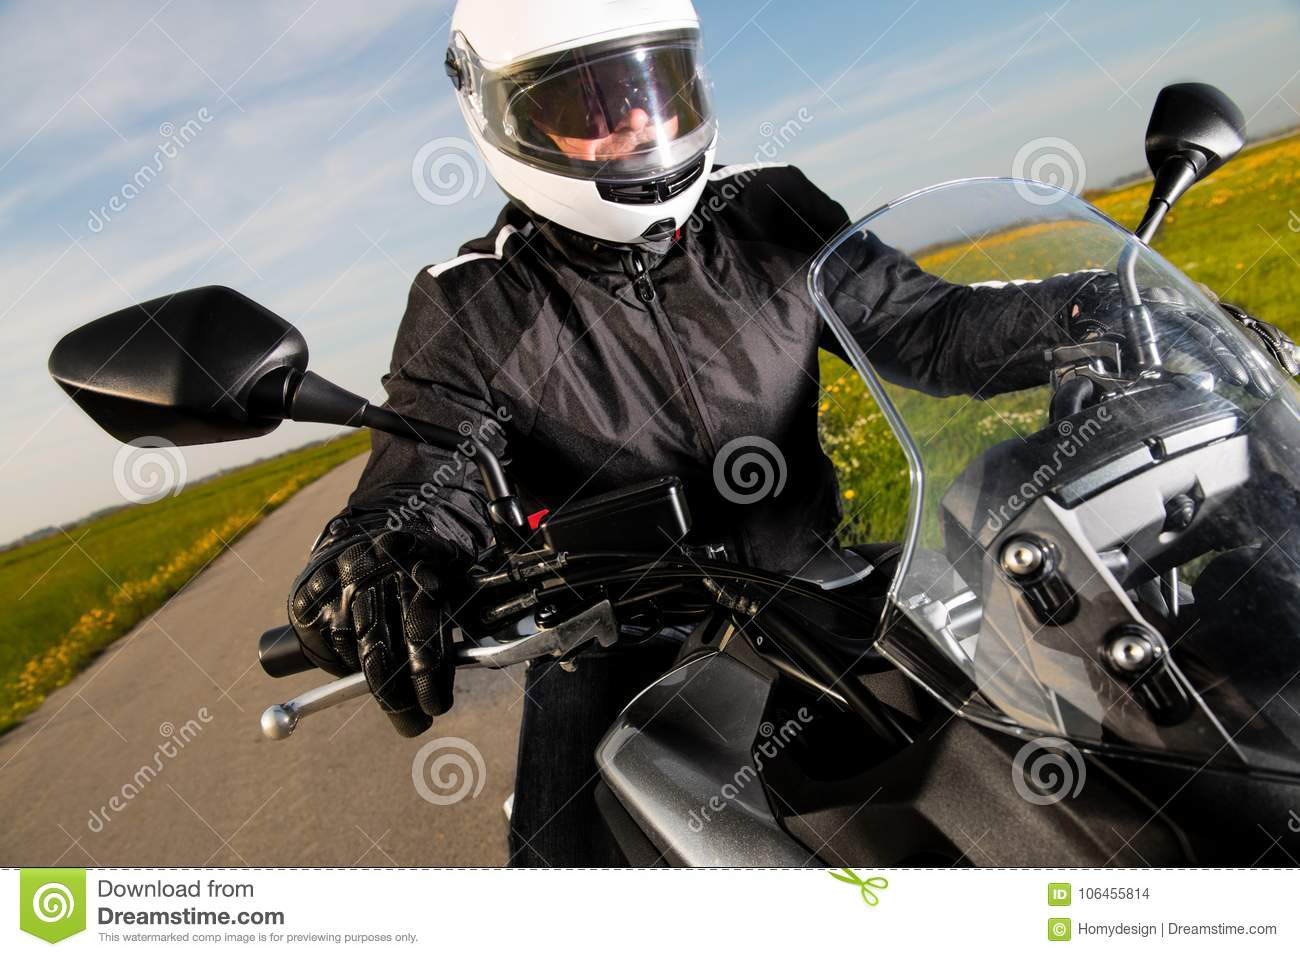helmet: (443, 7, 729, 239)
